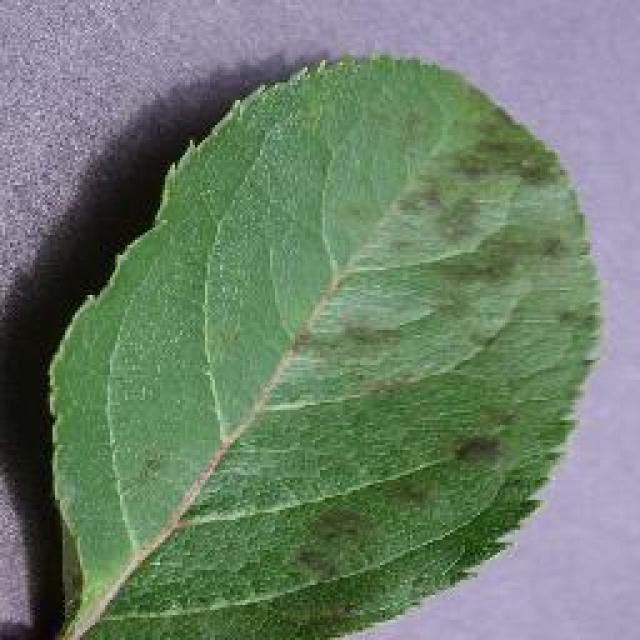apple scab disease: (43, 48, 605, 638)
